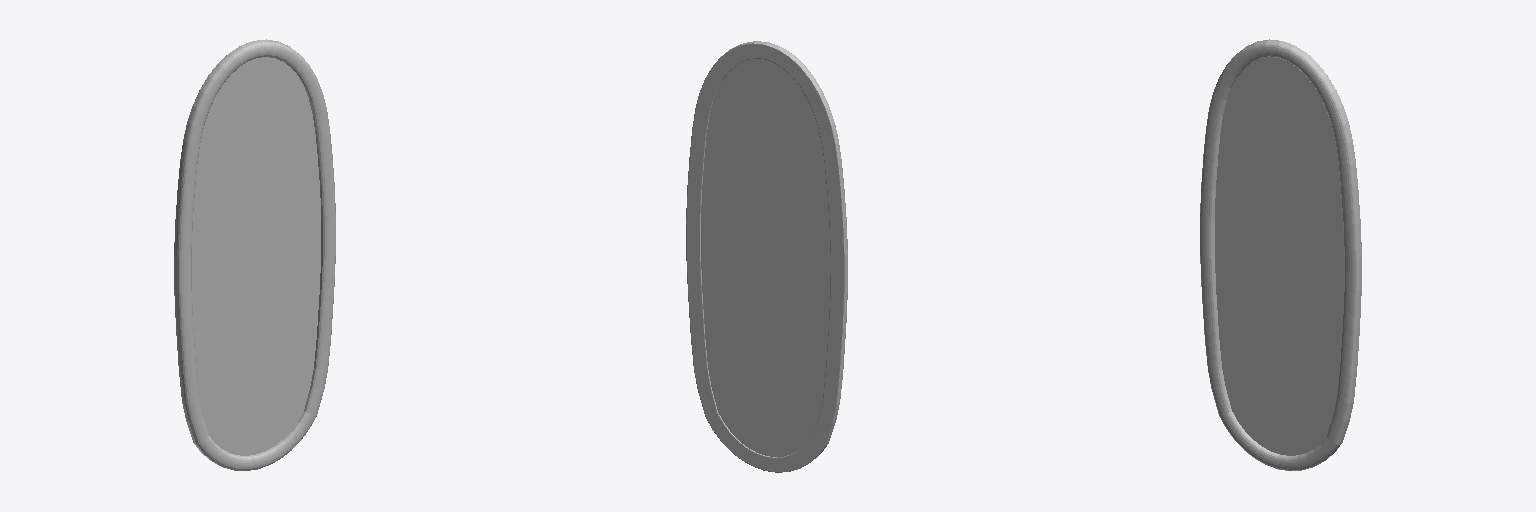
Rendered from espejo3.obj.
The picture shows the model from 3 angles: view 1: azimuth 30°, elevation 25°; view 2: azimuth 150°, elevation 25°; view 3: azimuth 330°, elevation 25°; orthographic projection.
Parts seen in each view (by area): view 1: mirrorCMirror_mirrorC_Mat_0, mirrorCFrame_mirrorC_Mat_0; view 2: mirrorCMirrorBack_mirrorC_Mat_0, mirrorCFrame_mirrorC_Mat_0; view 3: mirrorCMirror_mirrorC_Mat_0, mirrorCFrame_mirrorC_Mat_0.
Part boxes in pixels (x1,y1,x2,y2): mirrorCMirror_mirrorC_Mat_0: (192, 57, 320, 455); mirrorCFrame_mirrorC_Mat_0: (174, 39, 335, 470); mirrorCMirrorBack_mirrorC_Mat_0: (701, 59, 830, 456); mirrorCFrame_mirrorC_Mat_0: (686, 41, 847, 472); mirrorCMirror_mirrorC_Mat_0: (1215, 57, 1343, 455); mirrorCFrame_mirrorC_Mat_0: (1200, 39, 1361, 470).
Size of the model in its own units: 0.5829 by 1.49 by 0.0345.